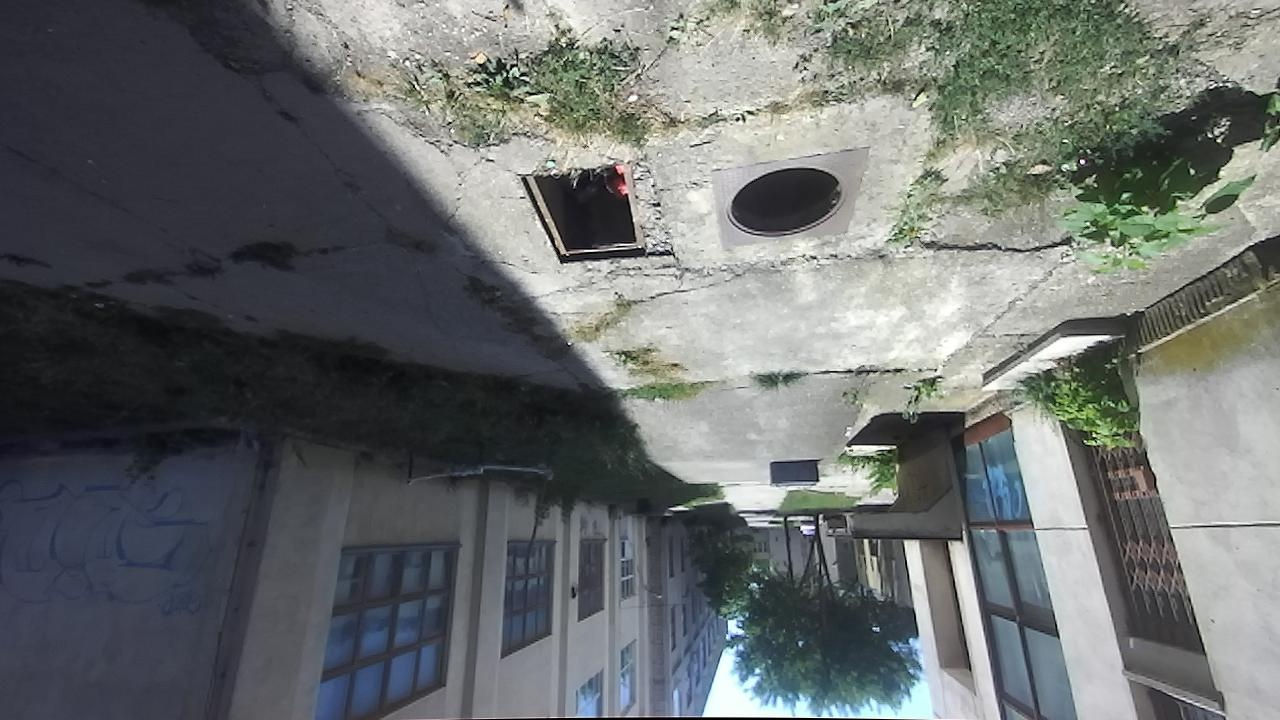drain: (509, 164, 654, 267), (720, 163, 844, 237)
